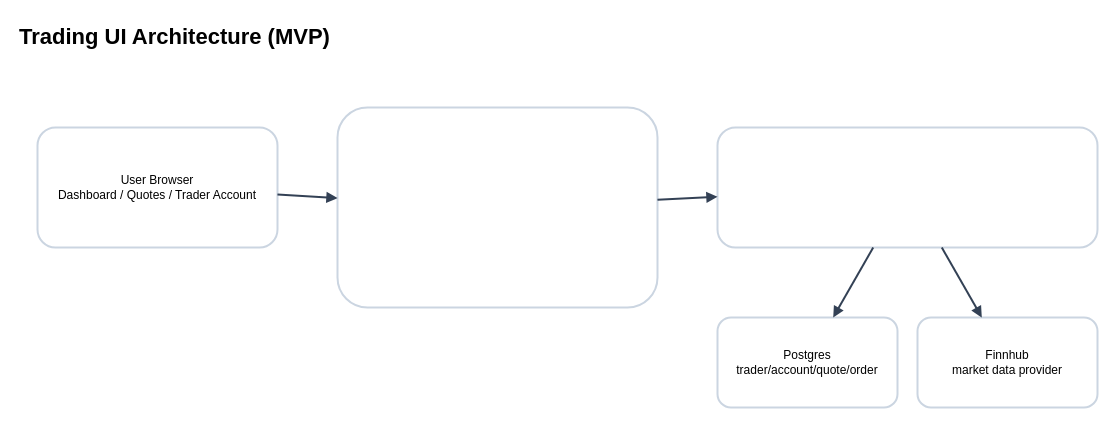
This 1115x425 diagram has some shape labels left out. Here are the shapes that lost their labels. From the top down, the box of each, then its label:
(336, 106, 658, 308): React UI (TypeScript) React Router + Ant Design + Axios
(716, 126, 1098, 248): Spring Boot Trading API /dashboard/*, /trader/*, /quote/*
